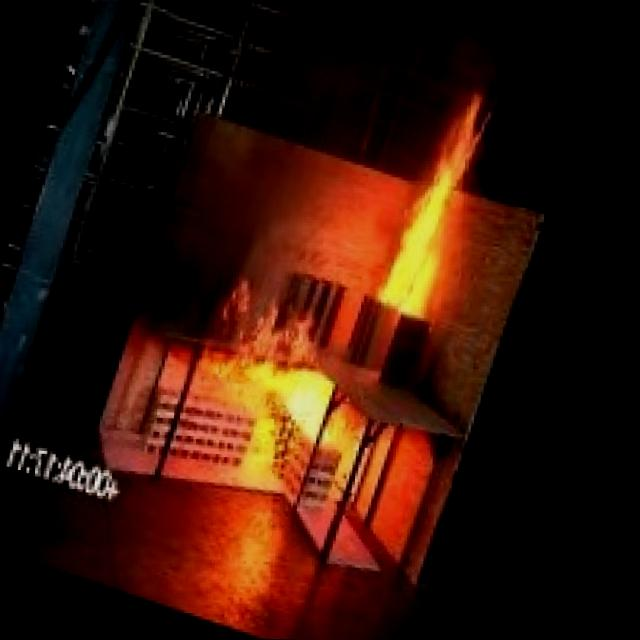fire: (327, 45, 538, 372), (158, 284, 398, 526)
